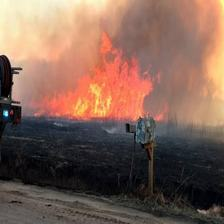fire: (32, 36, 188, 125)
